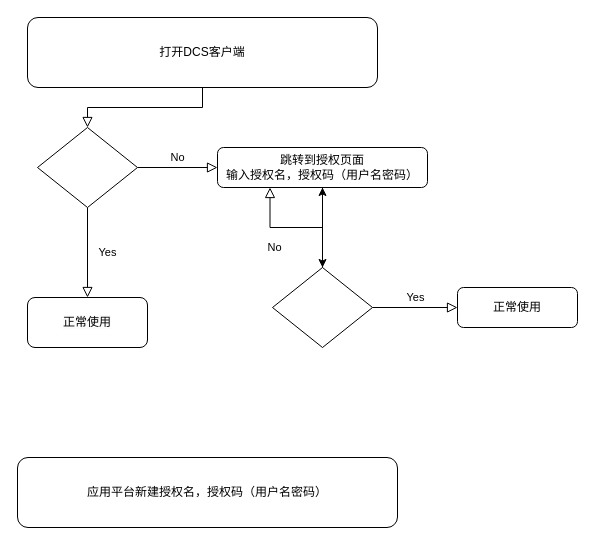
Image size: 595x545. Some labels were removed from this diagram. Here are the shapes that lost their labels. From the top down, the box of each, then its label:
(36, 126, 138, 208): 是否已授权
(272, 266, 372, 348): 是否正确
